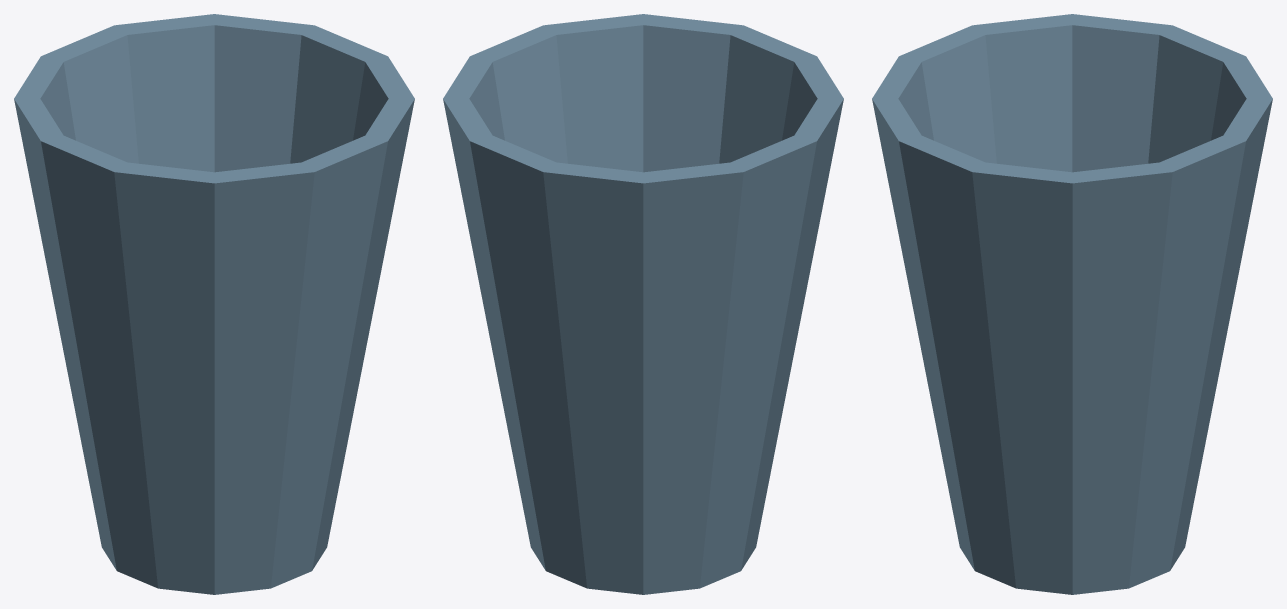
Rendered from Vaso.fbx.
The picture shows the model from 3 angles, left to right: view 1: azimuth 30°, elevation 25°; view 2: azimuth 150°, elevation 25°; view 3: azimuth 270°, elevation 25°; orthographic projection.
Visible parts, largest first — view 1: Vaso; view 2: Vaso; view 3: Vaso.
Part boxes in pixels (x1,y1,x2,y2): Vaso: (14, 14, 414, 594); Vaso: (443, 14, 843, 594); Vaso: (872, 14, 1272, 594).
Size of the model in its own units: 6.96 by 8.6 by 6.96.
